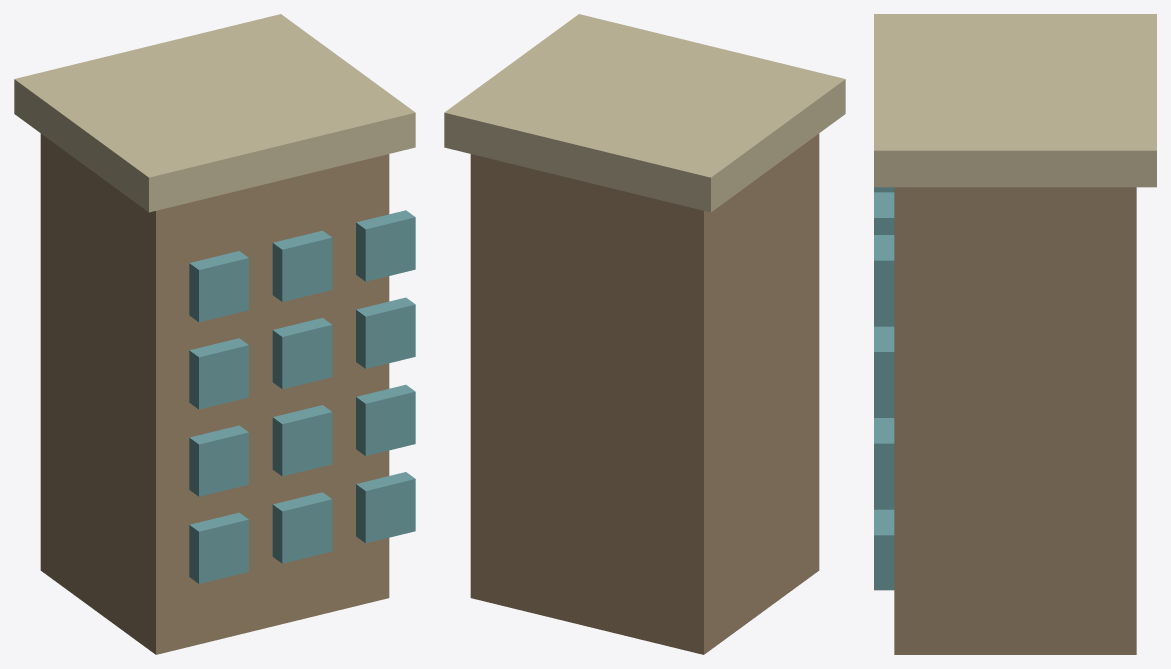
Rendered from architecture-05.glb.
3 views of the same model, side by side, from view 1: azimuth 30°, elevation 25°; view 2: azimuth 150°, elevation 25°; view 3: azimuth 270°, elevation 25° (orthographic). The views are drawn at different scales.
Parts seen in each view (by area): view 1: Building model; view 2: Building model; view 3: Building model.
Part boxes in pixels (left/top/right/bottom): Building model: left=14, top=14, right=415, bottom=654; Building model: left=444, top=14, right=845, bottom=654; Building model: left=874, top=14, right=1156, bottom=654.
Size of the model in its own units: 1.28 by 2.24 by 1.12.
